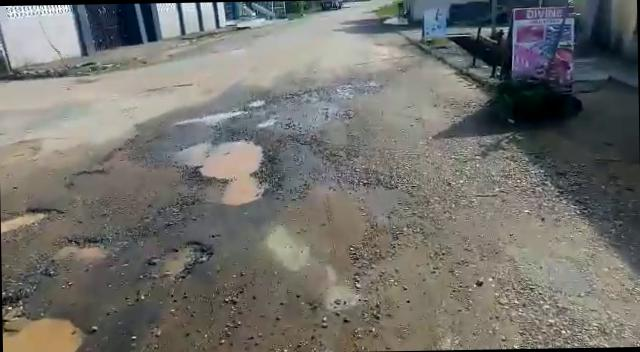pothole: (168, 134, 278, 202), (2, 313, 86, 352), (142, 236, 212, 282), (2, 204, 64, 234), (186, 104, 252, 126)
